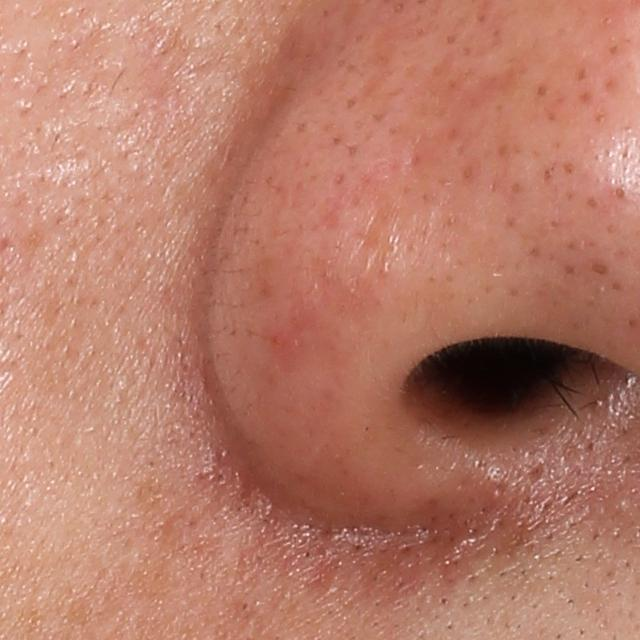comedo: (590, 261, 608, 276), (612, 184, 626, 201)
